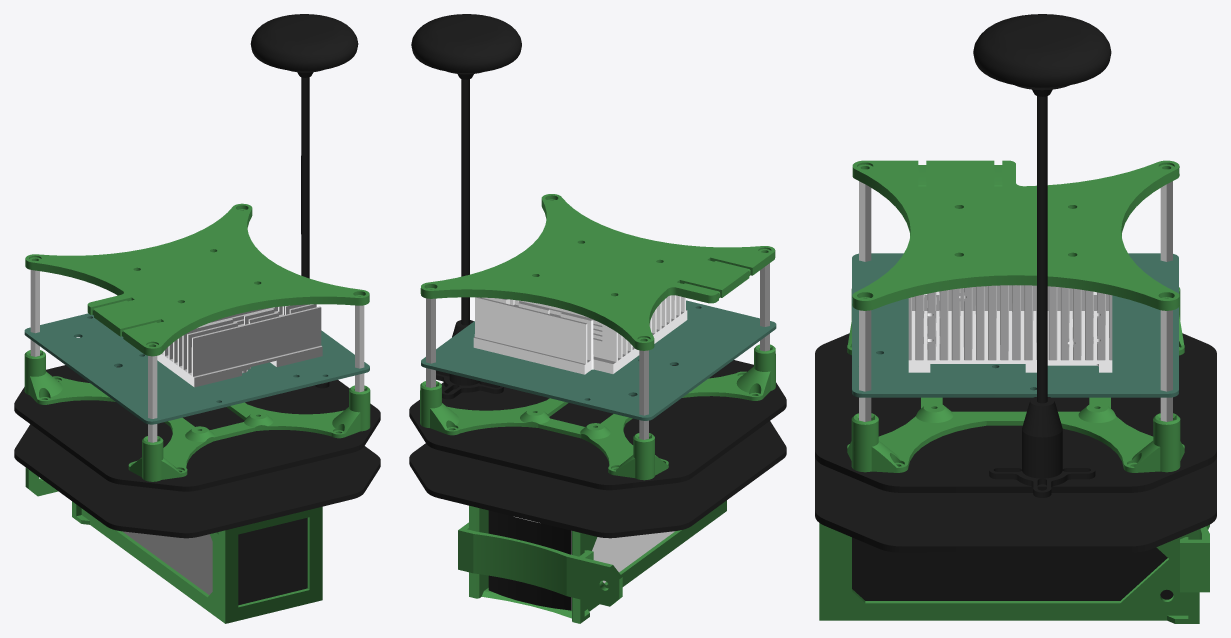
The model's file is x500_central_body.dae.
3 renders of one model, left to right at view 1: azimuth 30°, elevation 25°; view 2: azimuth 150°, elevation 25°; view 3: azimuth 270°, elevation 25°, orthographic. The views are drawn at different scales.
Parts seen in each view (by area): view 1: Object002; view 2: Object002; view 3: Object002.
Boxes of the visible parts, bbox=[...] form: Object002: bbox=[14, 14, 380, 623]; Object002: bbox=[409, 14, 786, 623]; Object002: bbox=[815, 14, 1216, 623].
Bounding box in the file's own units: 0.1634 × 0.148 × 0.2559.
